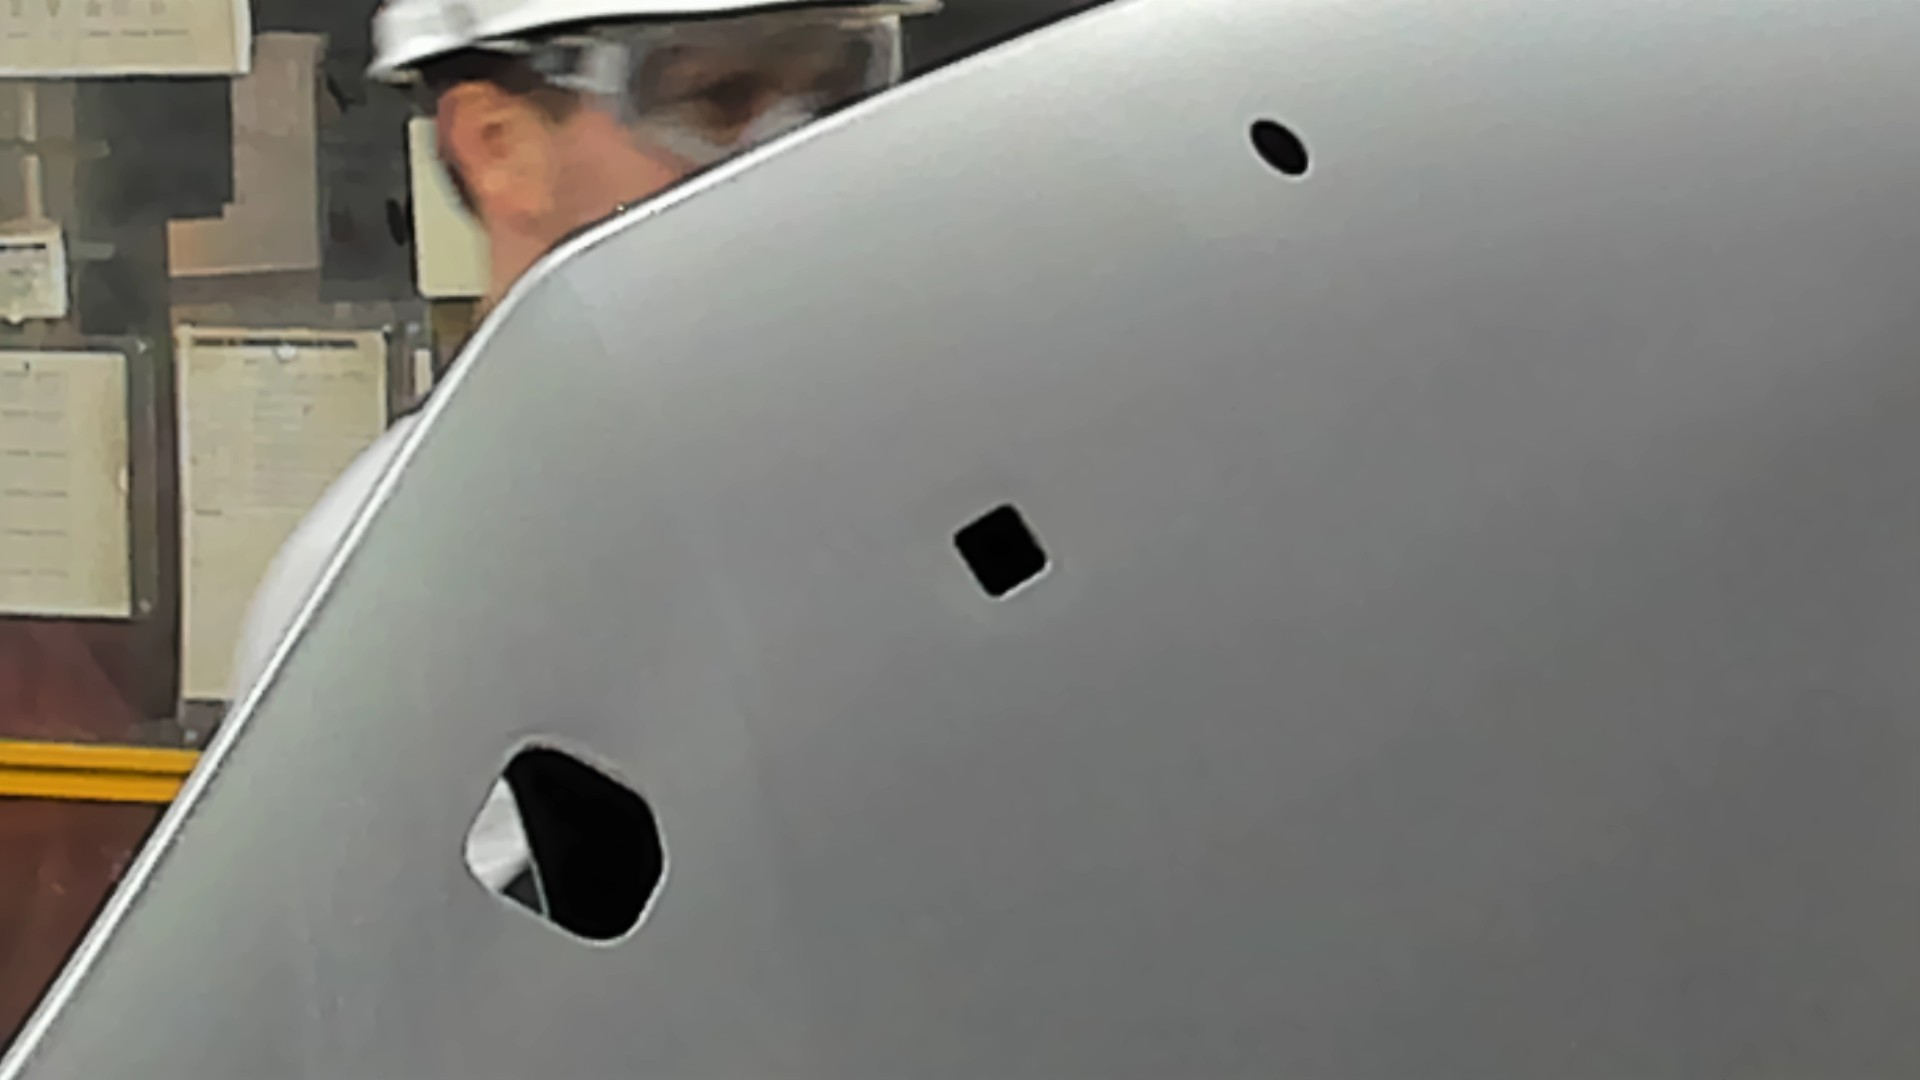chico: (1245, 115, 1311, 179)
grande: (458, 736, 669, 948)
mediano: (948, 497, 1055, 609)
